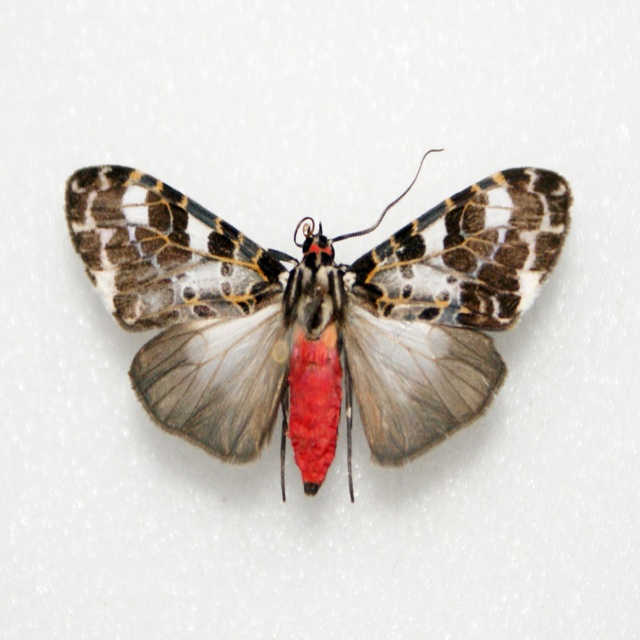Butterfly: (90, 144, 557, 502)
